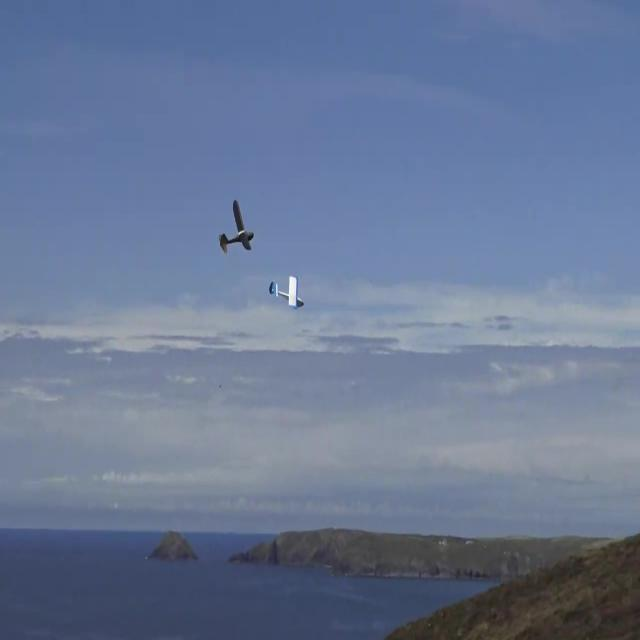iha: (218, 199, 254, 254), (269, 275, 304, 311)
